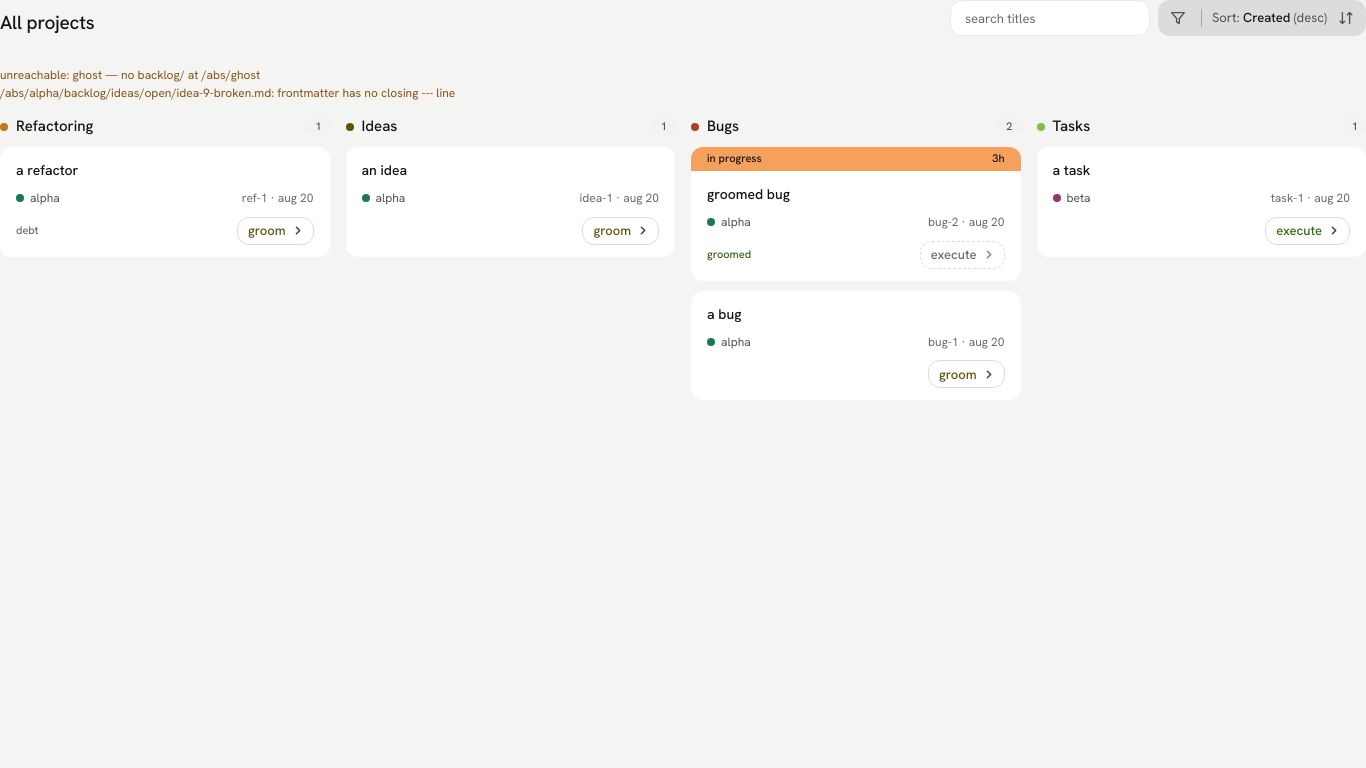
Test: BoardView › titles itself All projects, then the picked project, then All projects again
Check: the text "Bugs" is shown, box [707,116,739,137]
Click the button named "Filters": click(1178, 18) [1161,3,1195,33]
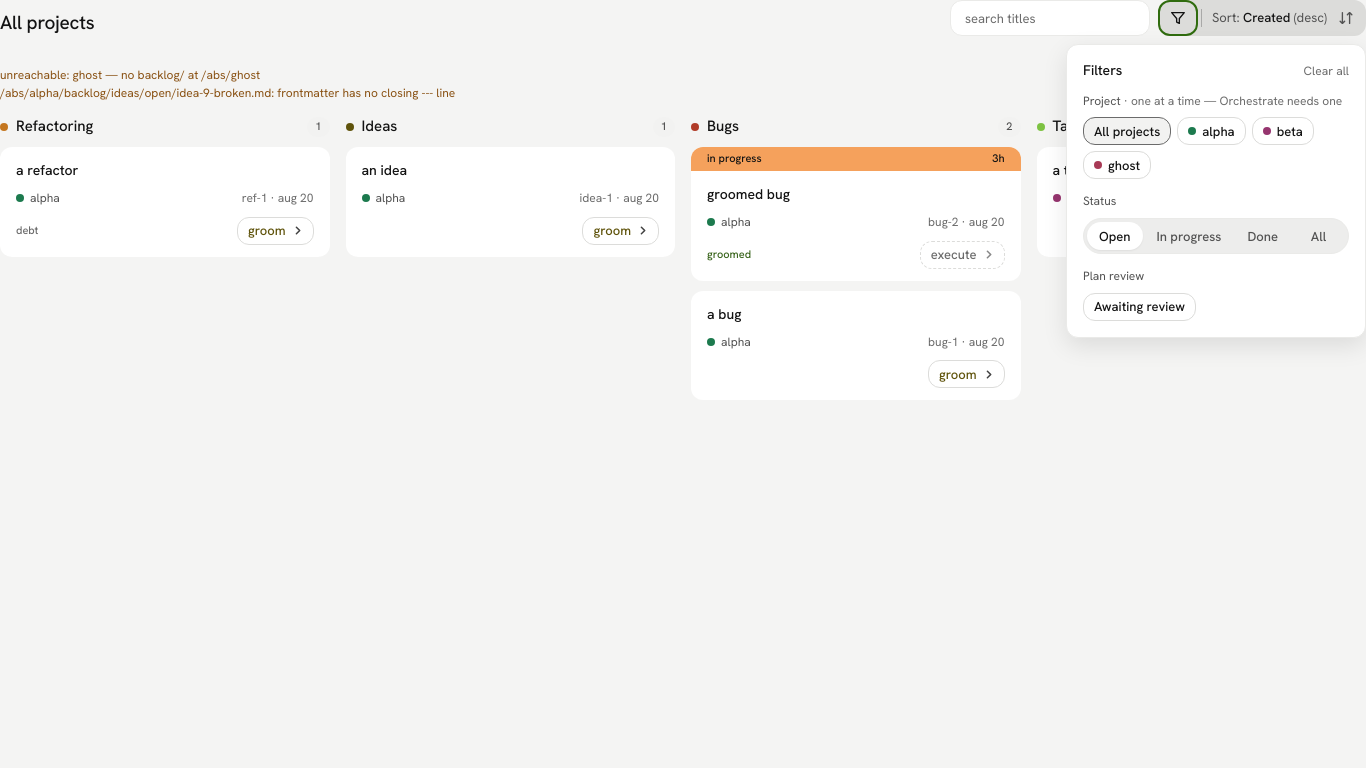
Click the button "alpha": click(1212, 131) [1177,117,1246,145]
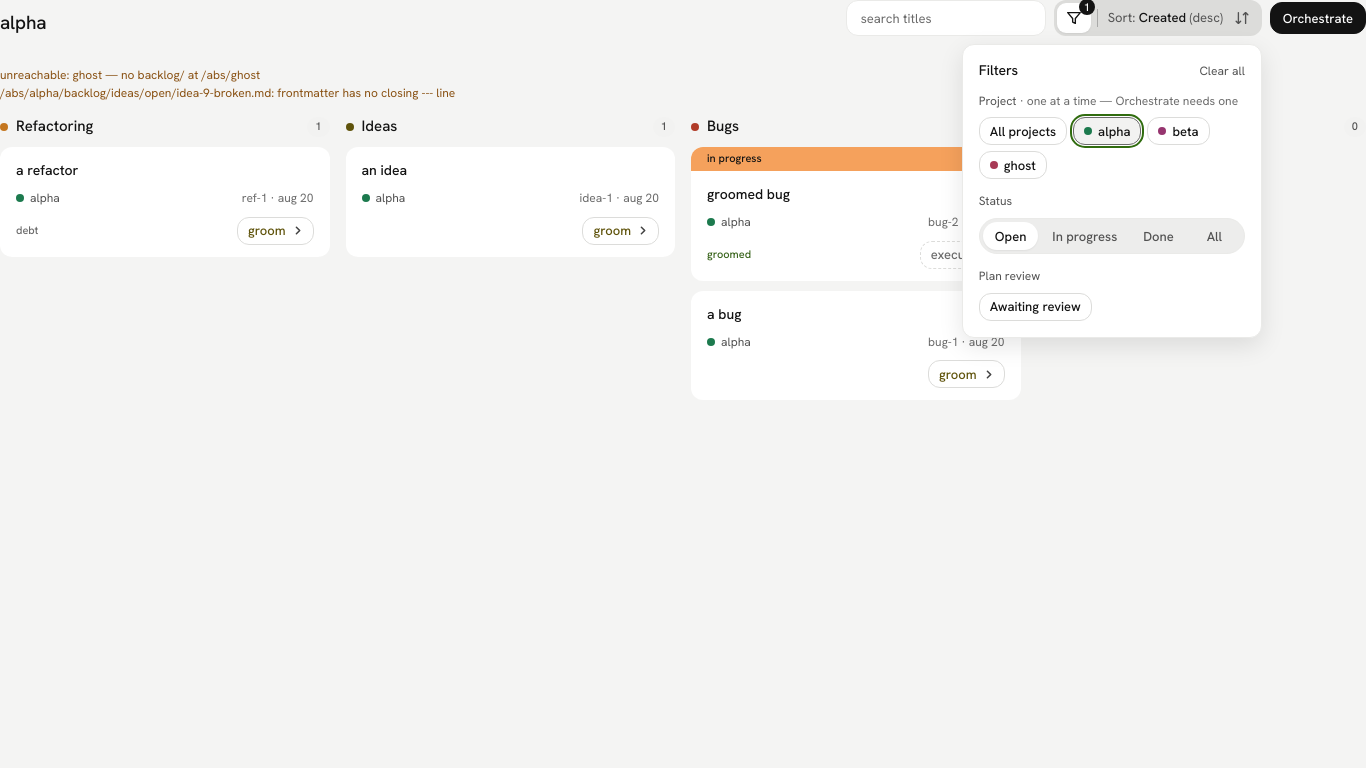
Check: the heading with class "ui-band-title" reads "alpha", box [0,10,46,35]
Click the button "All projects": click(1023, 131) [979,117,1067,145]
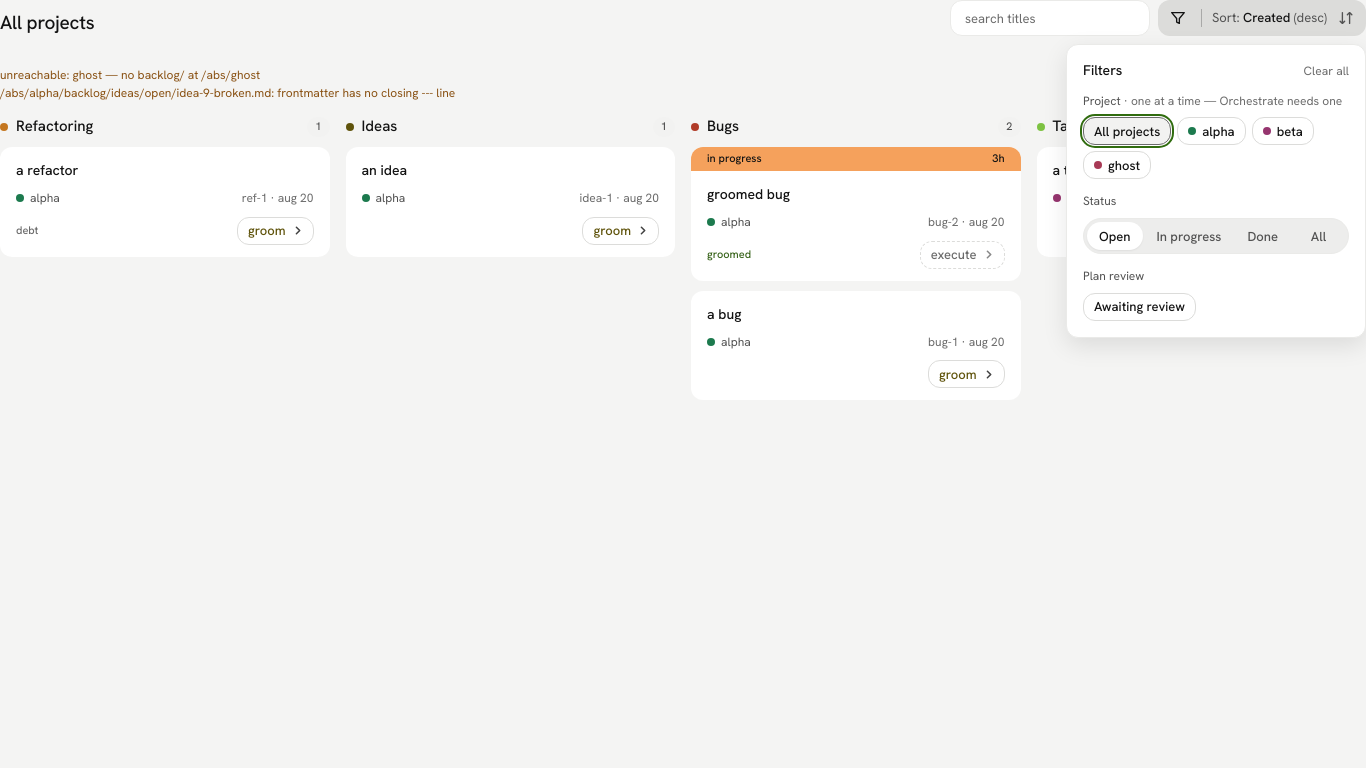
Check: the heading with class "ui-band-title" reads "All projects", box [0,10,95,35]
